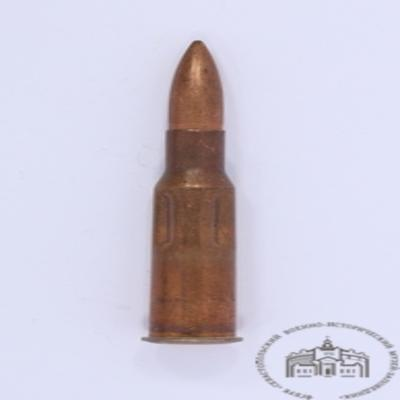weapon: (142, 40, 242, 346)
